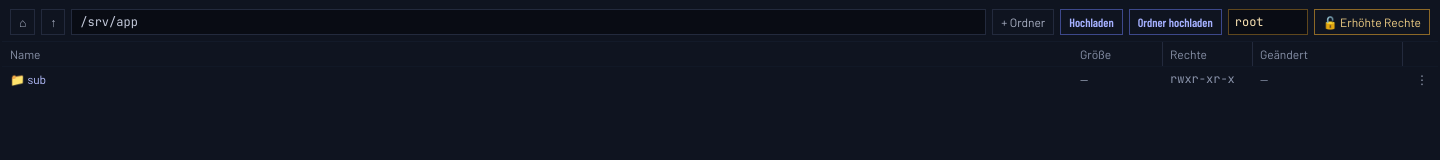
Test: FileBrowserPanel start directory (Spec 0102) › opens in the start directory, returns there and goes up from there
This screenshot has width=1440, height=160.
Expected: the field showing "/srv/app" is shown, [71, 9, 986, 35]
Click the button titled "Übergeordnetes Verzeichnis". click: click(53, 22)
box: [41, 8, 65, 34]
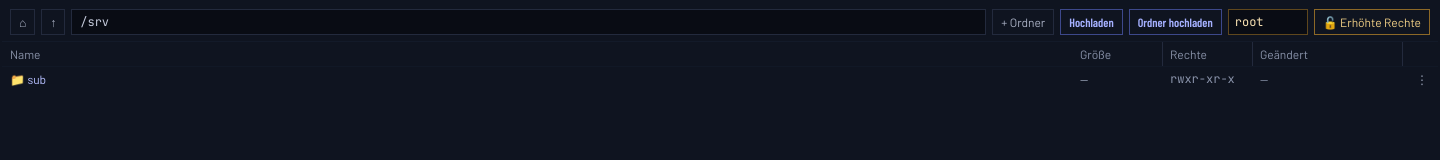
Expected: the field showing "/srv" is shown, [71, 9, 986, 35]
Click the button titled "Zum Startverzeichnis". click: click(23, 22)
box: [10, 8, 35, 34]
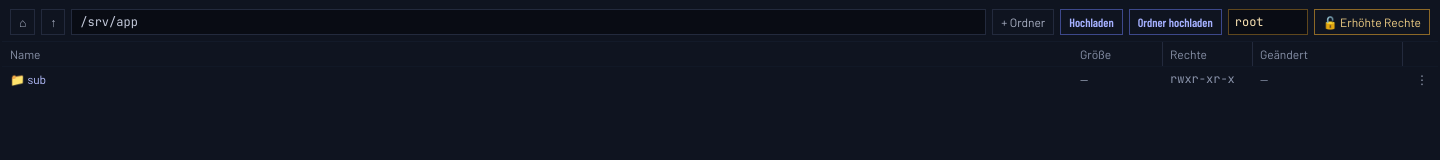
Result: the field showing "/srv/app" is shown at [71, 9, 986, 35]
